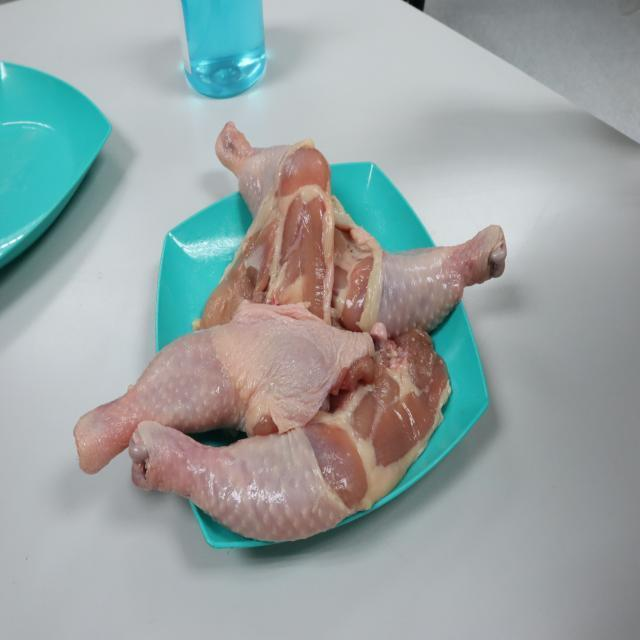quater: (138, 344, 462, 542), (67, 307, 359, 465), (205, 116, 332, 316), (342, 210, 532, 342)
